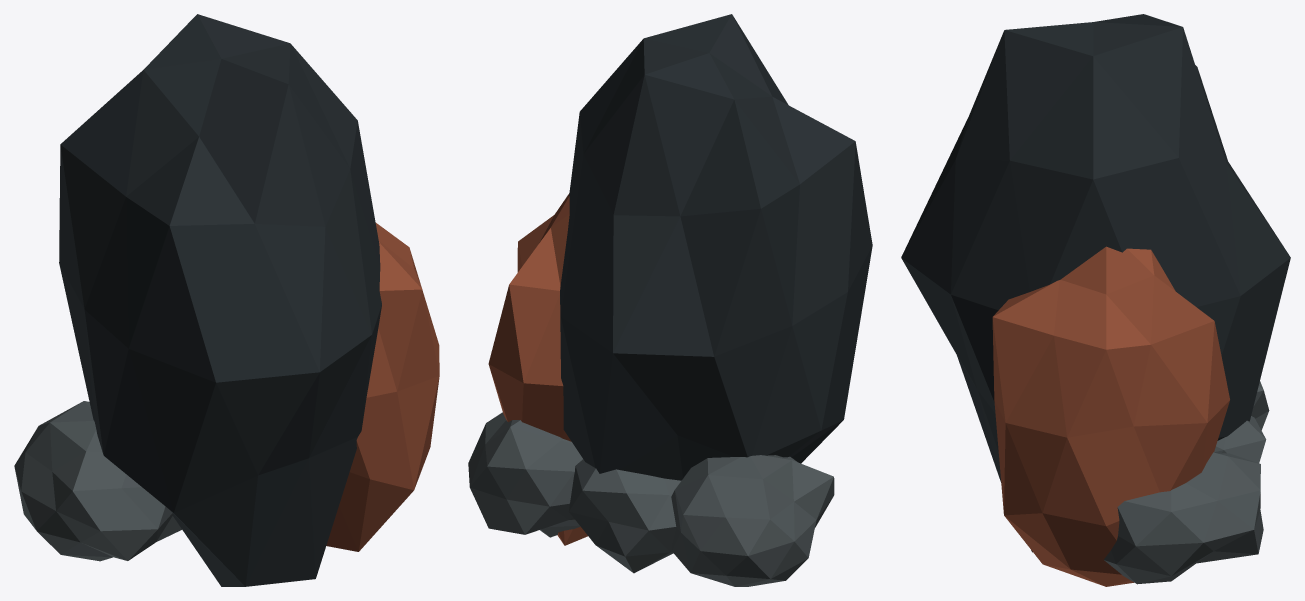
Rendered from rock_b.fbx.
3 views of the same model, side by side, from view 1: azimuth 30°, elevation 25°; view 2: azimuth 150°, elevation 25°; view 3: azimuth 270°, elevation 25° (orthographic). The views are drawn at different scales.
Visible parts, largest first — view 1: rock_b; view 2: rock_b; view 3: rock_b.
Boxes of the visible parts, x1,y1,x2,y2 form: rock_b: [14, 14, 439, 586]; rock_b: [468, 14, 872, 586]; rock_b: [901, 14, 1290, 586].
Bounding box in the file's own units: 1.51 × 2.2 × 1.49.
